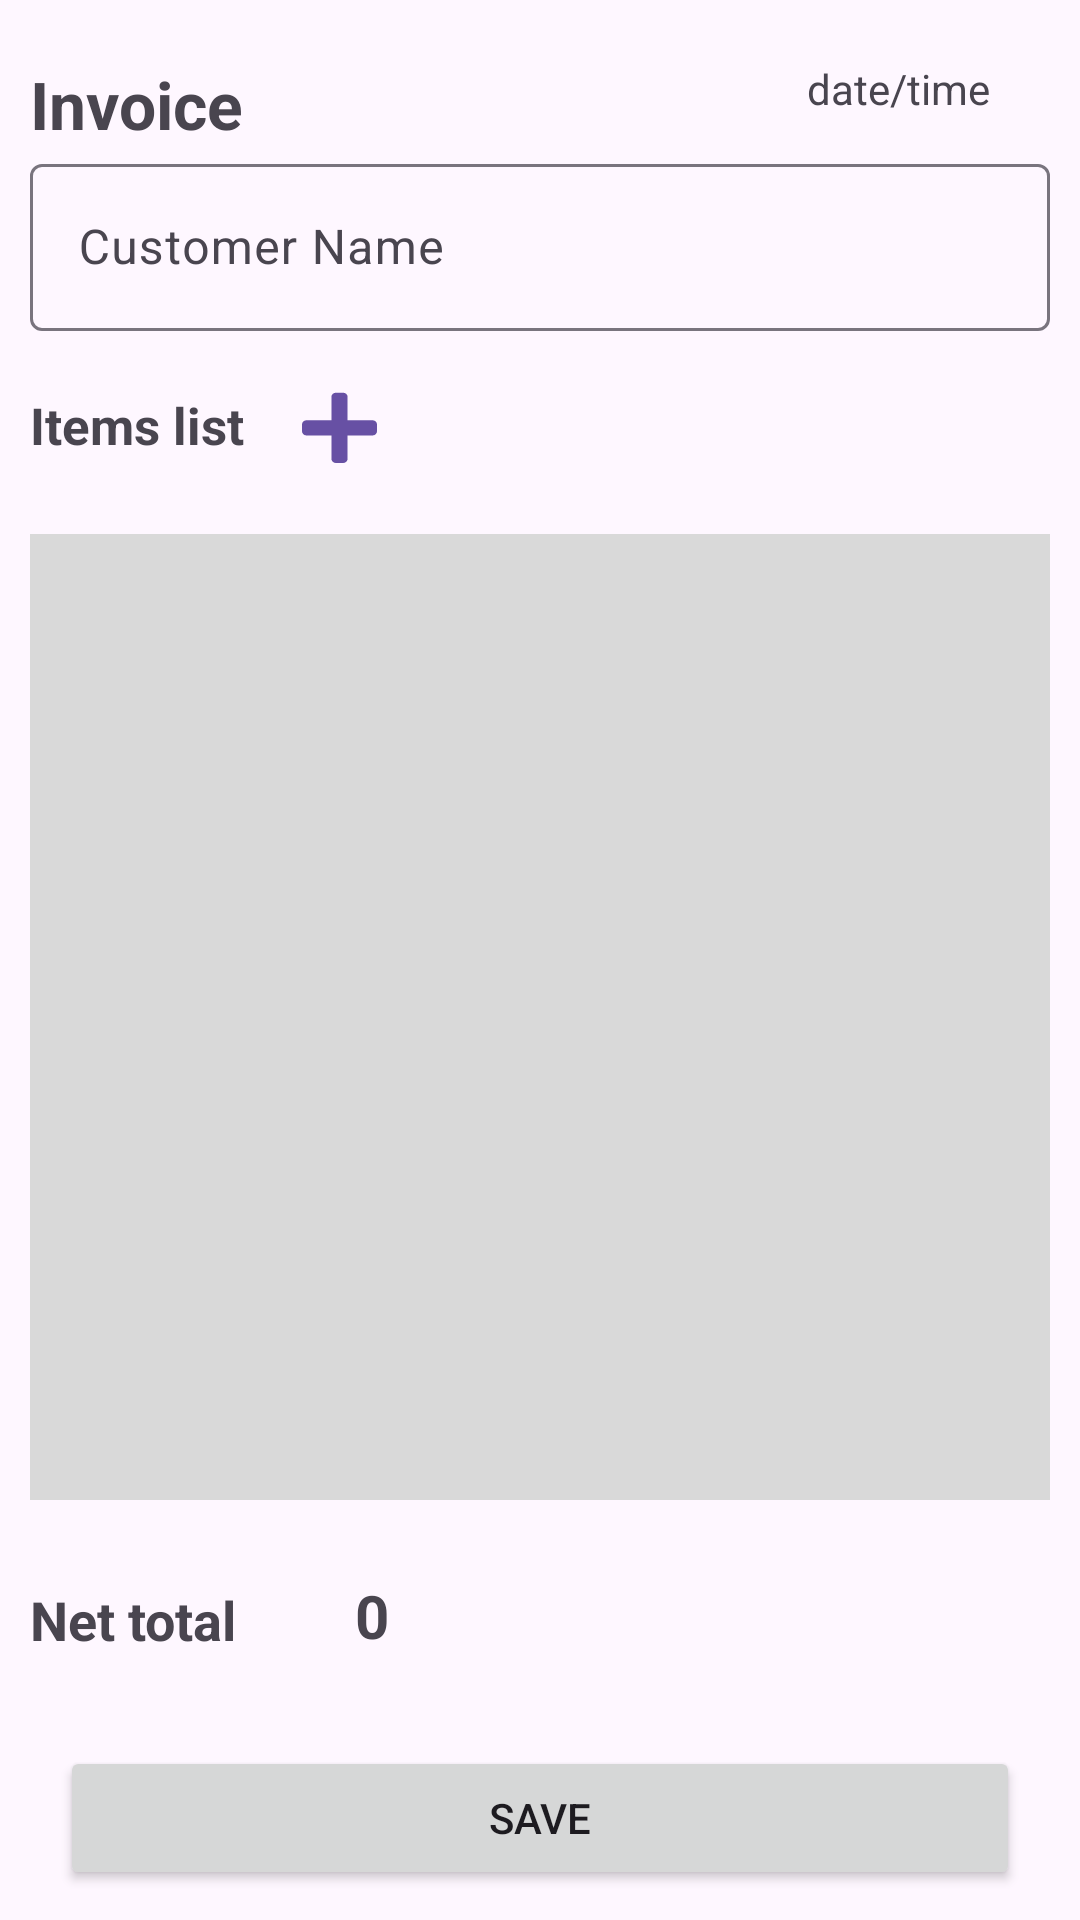

Locate icon controls on the screen. Image size 1080 × 1920, boxes as {"left": x1, "top": y1, "right": x2, "bottom": y2}.
add: {"left": 302, "top": 392, "right": 377, "bottom": 463}
